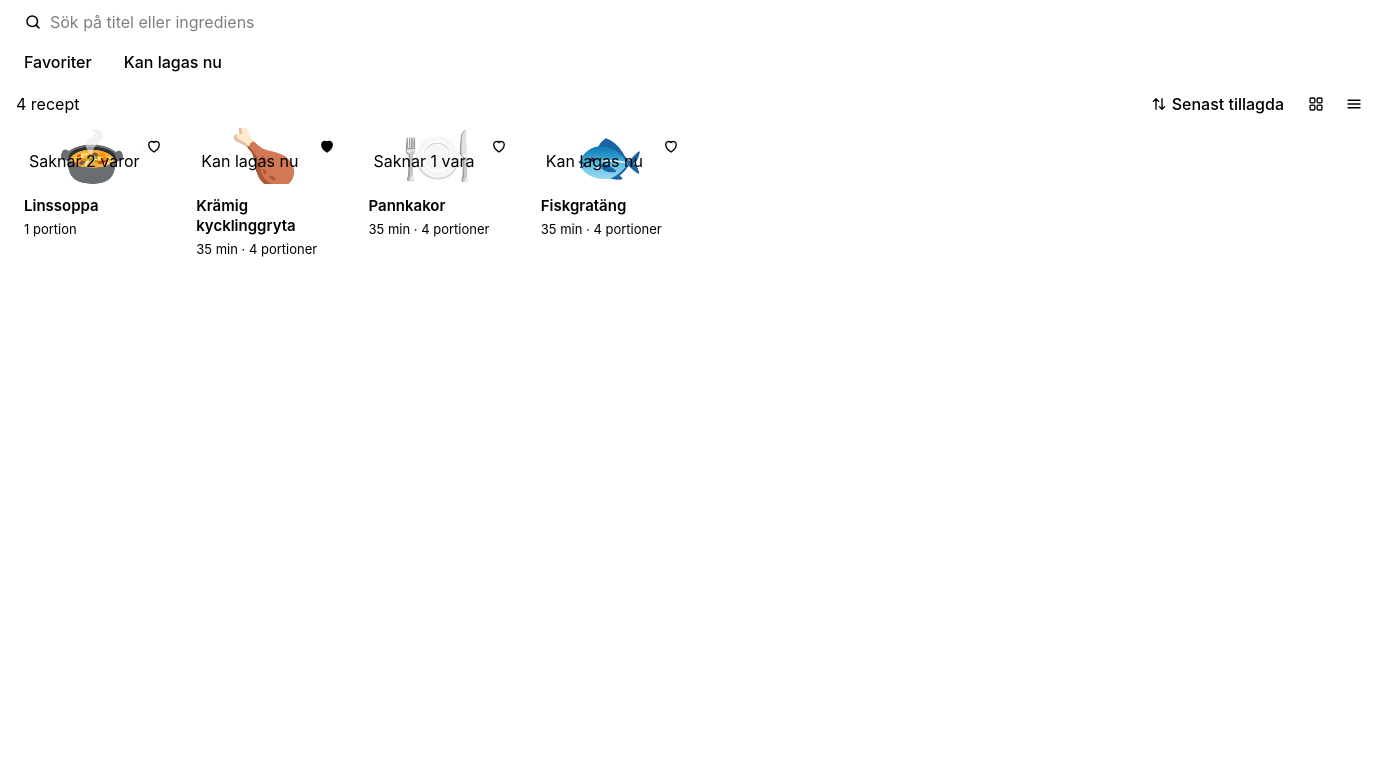
Test: Library, AI-förslag and the place › keeps the suggestions without a line when the library's place is not known
What coordinates should you click on to do the following:
click the button "Kan lagas nu"
I would click on:
 (173, 62)
Its box is [112, 46, 234, 78].
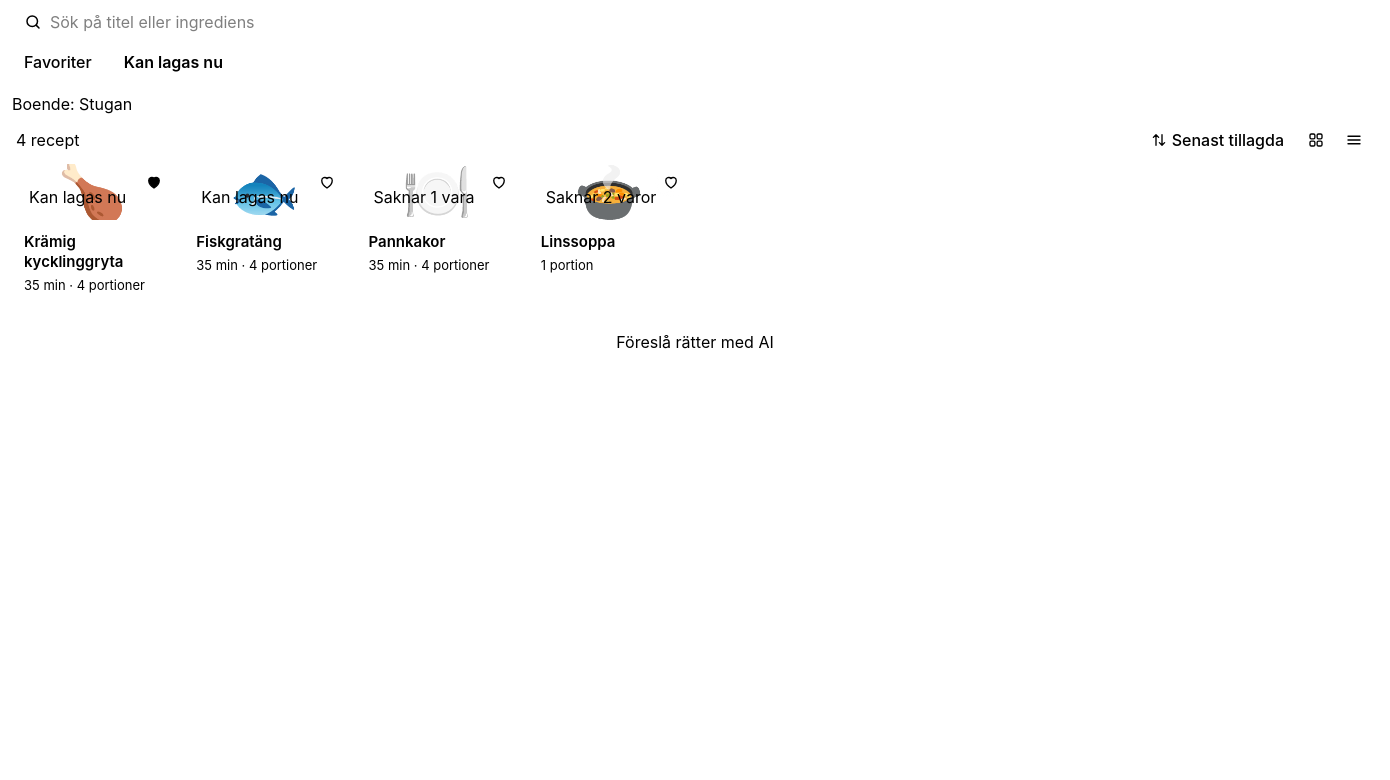
What coordinates should you click on to do the following:
click the button "Föreslå rätter med AI"
I would click on:
 (695, 342)
Its box is [12, 330, 1378, 354].
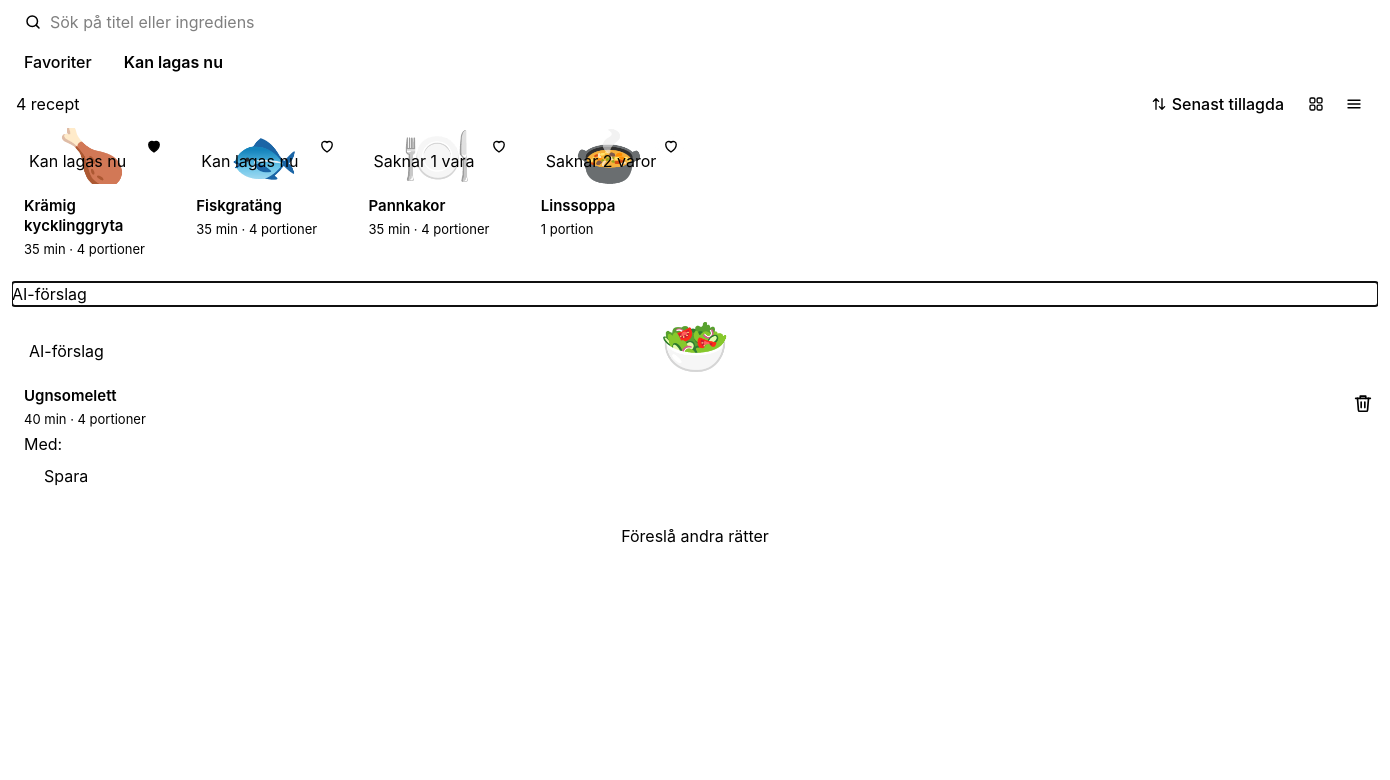
Expected: the heading "Ugnsomelett" is shown, [24, 386, 117, 405]
